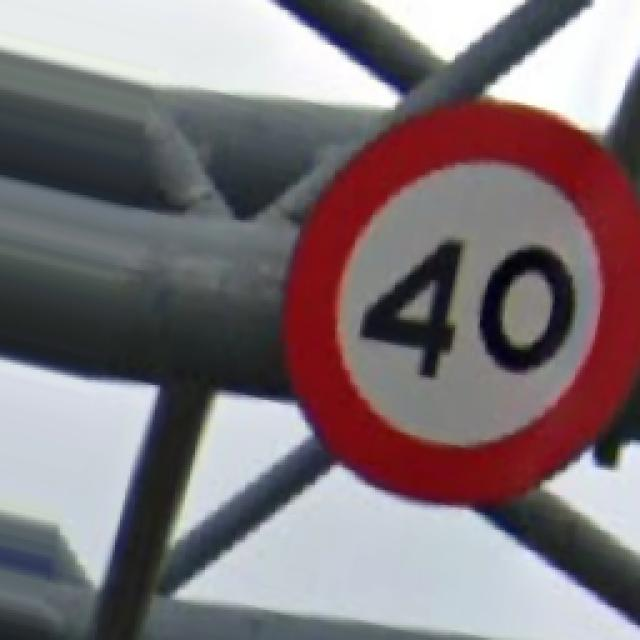Speed Limit -40-: (285, 100, 638, 498)
